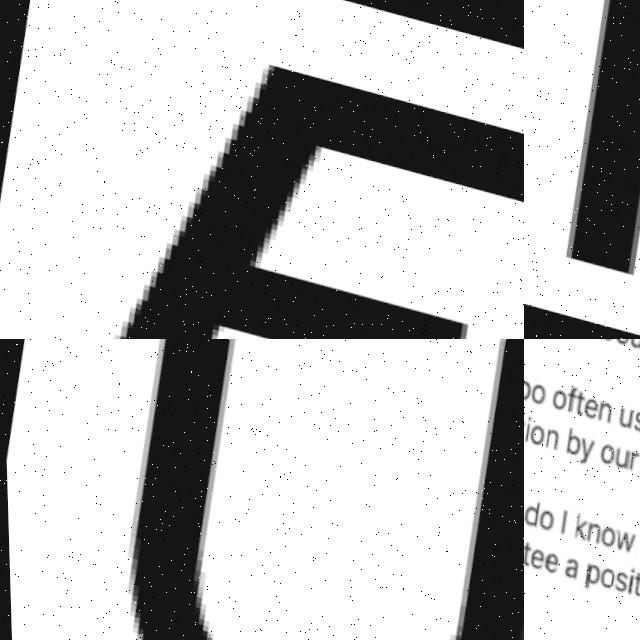A: (561, 553, 578, 577)
B: (563, 424, 582, 454)
D: (524, 495, 538, 525)
E: (580, 393, 598, 417), (526, 545, 543, 567), (540, 549, 557, 570)
F: (10, 0, 524, 339)
I: (564, 382, 576, 410), (622, 561, 633, 591), (557, 505, 566, 532), (524, 411, 532, 441)
K: (570, 507, 588, 537)
N: (538, 0, 640, 339), (541, 424, 558, 449), (583, 518, 601, 541), (596, 397, 613, 421)
O: (527, 379, 547, 404), (549, 385, 567, 409), (536, 506, 554, 530), (596, 438, 614, 461), (598, 521, 615, 545), (597, 562, 614, 586), (528, 421, 545, 444), (524, 376, 531, 400)
P: (580, 558, 599, 587)
R: (625, 446, 639, 469)
S: (611, 565, 628, 590), (629, 404, 640, 427)
T: (628, 566, 640, 592), (573, 387, 584, 413), (524, 538, 529, 564), (636, 526, 640, 552)
U: (82, 339, 524, 640), (611, 443, 629, 466), (616, 402, 633, 426), (627, 339, 640, 346)
W: (610, 524, 633, 550)
Y: (577, 434, 595, 463)
